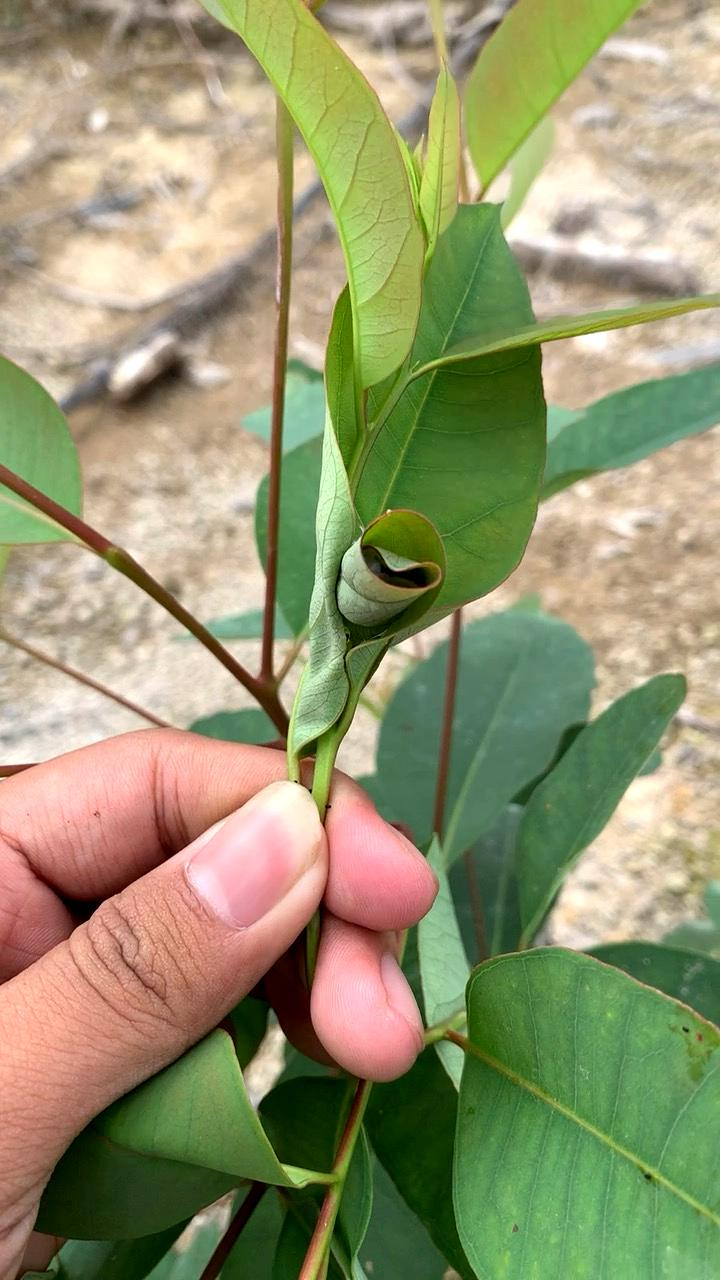Leaf Roller - Leaf: (209, 486, 501, 734)
